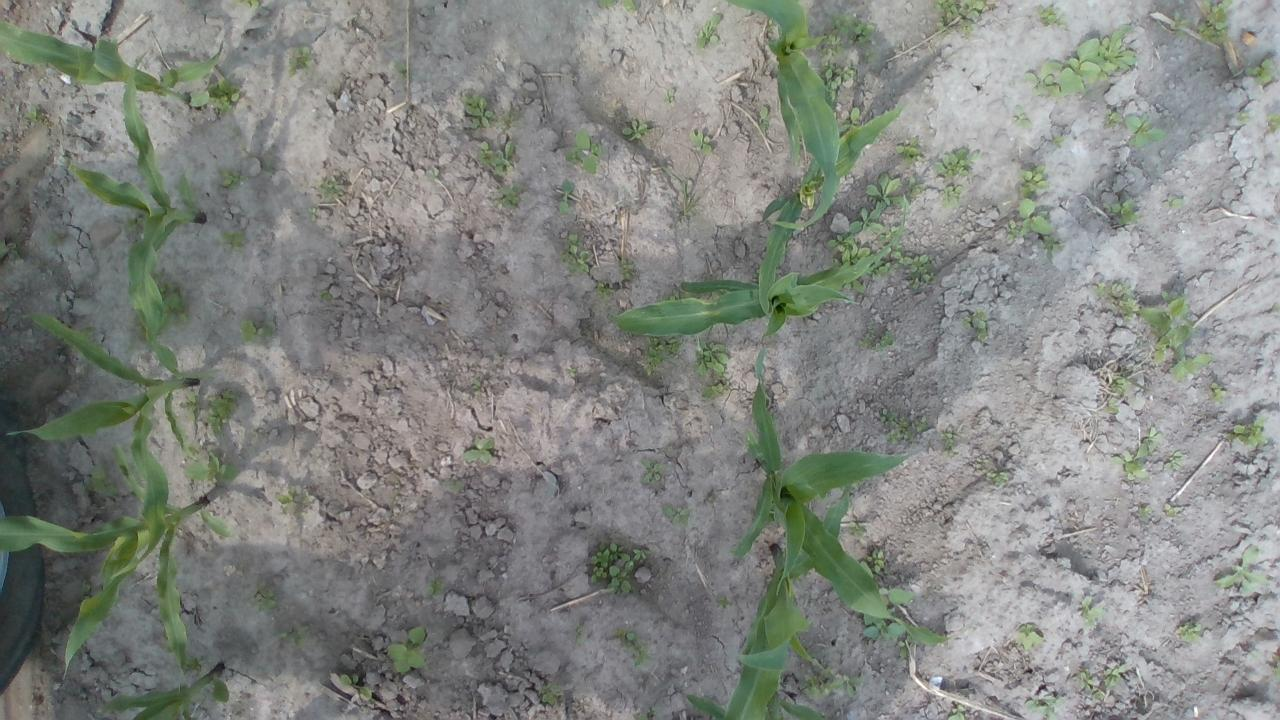Maize: (734, 344, 970, 644), (0, 444, 232, 682), (5, 311, 202, 579), (72, 49, 210, 380), (612, 204, 909, 338), (759, 101, 910, 316), (724, 478, 851, 720), (722, 0, 841, 230), (0, 20, 225, 114), (102, 660, 230, 720), (686, 692, 828, 720)
Weeds: (1026, 24, 1138, 100), (1140, 290, 1214, 380), (828, 237, 888, 292), (588, 543, 652, 594), (1213, 544, 1269, 596), (1074, 662, 1132, 700), (890, 246, 936, 292), (820, 13, 874, 52), (934, 0, 986, 39), (1006, 198, 1052, 241), (803, 668, 864, 700), (388, 626, 428, 674), (864, 173, 910, 211), (1093, 282, 1137, 320), (566, 130, 602, 176), (879, 408, 927, 442), (1196, 0, 1232, 45), (183, 454, 237, 484), (642, 336, 682, 376), (1224, 412, 1268, 446), (821, 62, 858, 102), (478, 140, 518, 176), (1124, 112, 1166, 146), (207, 390, 238, 434), (557, 234, 591, 274), (934, 148, 979, 178), (860, 614, 906, 643), (204, 78, 240, 115), (459, 93, 495, 130), (678, 173, 704, 224), (160, 282, 189, 325), (694, 340, 730, 374), (616, 630, 650, 666), (1110, 450, 1150, 480), (973, 454, 1008, 486), (1018, 164, 1050, 196), (694, 12, 721, 49), (1076, 594, 1106, 627), (1023, 695, 1062, 720), (340, 672, 372, 702), (274, 486, 308, 514), (879, 584, 917, 609), (288, 46, 318, 77), (1036, 4, 1069, 32), (856, 326, 894, 350), (85, 465, 116, 494), (700, 374, 734, 400), (848, 208, 883, 233), (1173, 618, 1204, 646), (1111, 199, 1142, 227), (1244, 59, 1276, 86), (492, 183, 524, 210), (962, 310, 988, 343), (462, 438, 496, 463), (126, 316, 149, 351), (894, 137, 923, 164), (1140, 425, 1162, 458), (241, 320, 274, 342), (939, 426, 962, 457), (250, 584, 276, 611), (1015, 625, 1042, 650), (1038, 238, 1066, 262), (640, 457, 664, 484), (278, 624, 309, 644), (1168, 8, 1190, 36), (558, 180, 576, 214), (690, 128, 713, 154), (500, 103, 521, 131), (620, 120, 649, 140), (1009, 104, 1032, 129), (316, 176, 342, 198), (938, 185, 962, 208), (663, 505, 692, 524), (840, 106, 861, 132), (219, 229, 247, 248), (599, 0, 636, 14), (219, 170, 246, 189), (1164, 448, 1184, 472), (538, 684, 560, 705), (866, 550, 884, 575), (424, 577, 447, 596), (619, 258, 637, 282), (182, 393, 198, 420), (1207, 382, 1227, 403), (24, 105, 46, 124), (1103, 106, 1121, 128), (182, 656, 204, 674), (1160, 195, 1186, 210), (1109, 375, 1128, 395), (886, 225, 904, 246), (126, 216, 144, 237), (758, 106, 772, 132), (393, 60, 411, 80), (594, 282, 616, 298), (846, 521, 866, 538), (910, 176, 926, 197), (1265, 112, 1280, 134), (1160, 503, 1184, 516), (440, 478, 466, 490), (1136, 505, 1152, 524), (570, 622, 586, 641), (898, 640, 912, 661), (946, 706, 966, 720), (1236, 110, 1256, 124), (48, 230, 68, 244), (262, 155, 276, 175), (1050, 134, 1067, 150), (716, 596, 734, 610), (661, 88, 676, 104), (1272, 656, 1280, 684), (664, 290, 686, 300), (233, 0, 260, 8), (1106, 397, 1119, 413), (318, 289, 334, 302), (82, 322, 95, 338), (764, 18, 776, 35), (426, 168, 441, 180), (470, 378, 483, 391), (564, 366, 578, 378), (1246, 646, 1258, 658), (308, 207, 318, 221), (862, 52, 872, 64), (666, 444, 676, 454), (636, 713, 650, 720), (1273, 302, 1280, 314)
